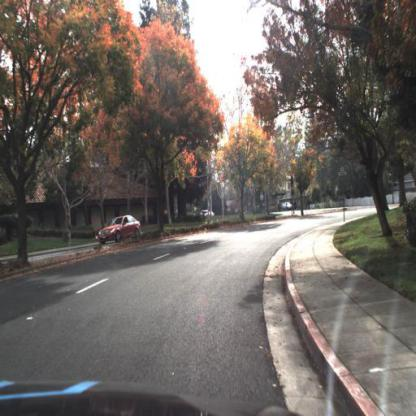car: (99, 213, 143, 244), (281, 201, 296, 213), (209, 210, 217, 220)
